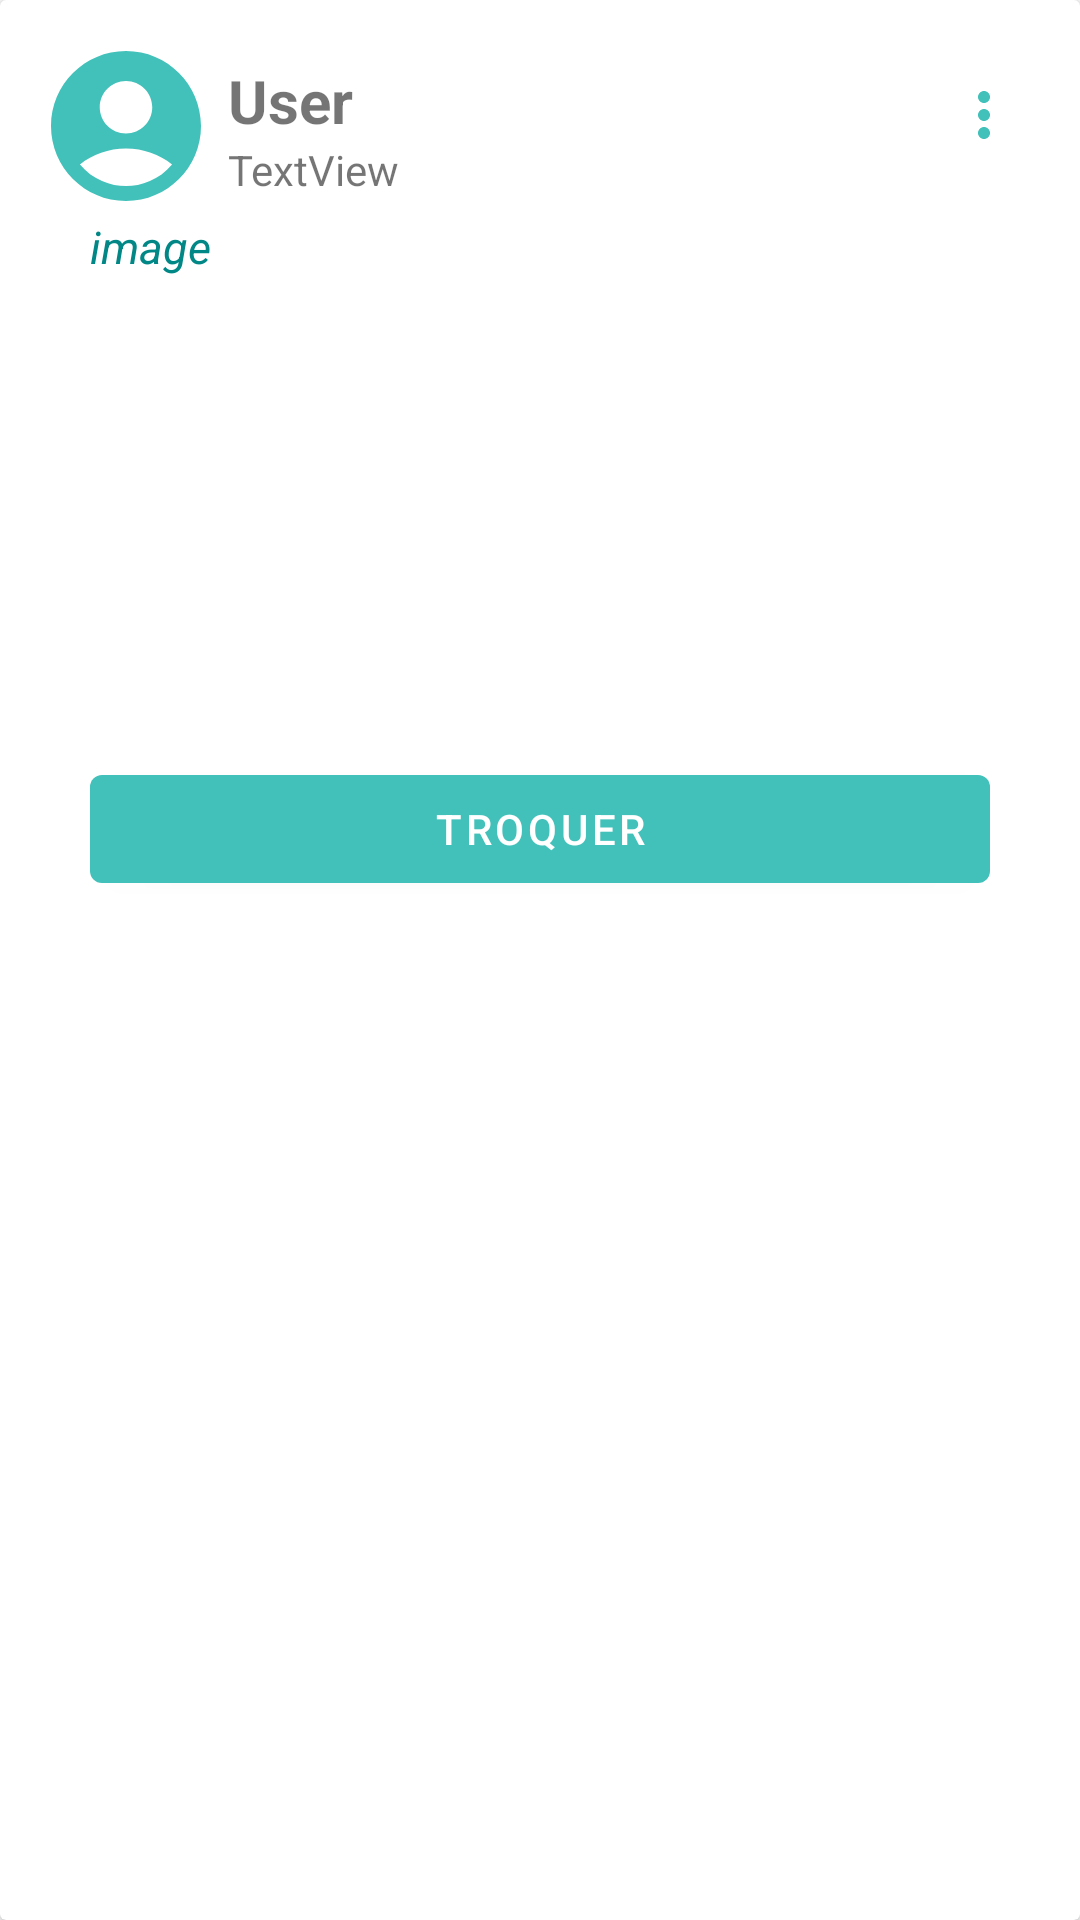

Icons on this 1080 x 1920 Android screen, each with its box as (x1, y1, x2, y2):
account circle: (51, 51, 201, 201)
